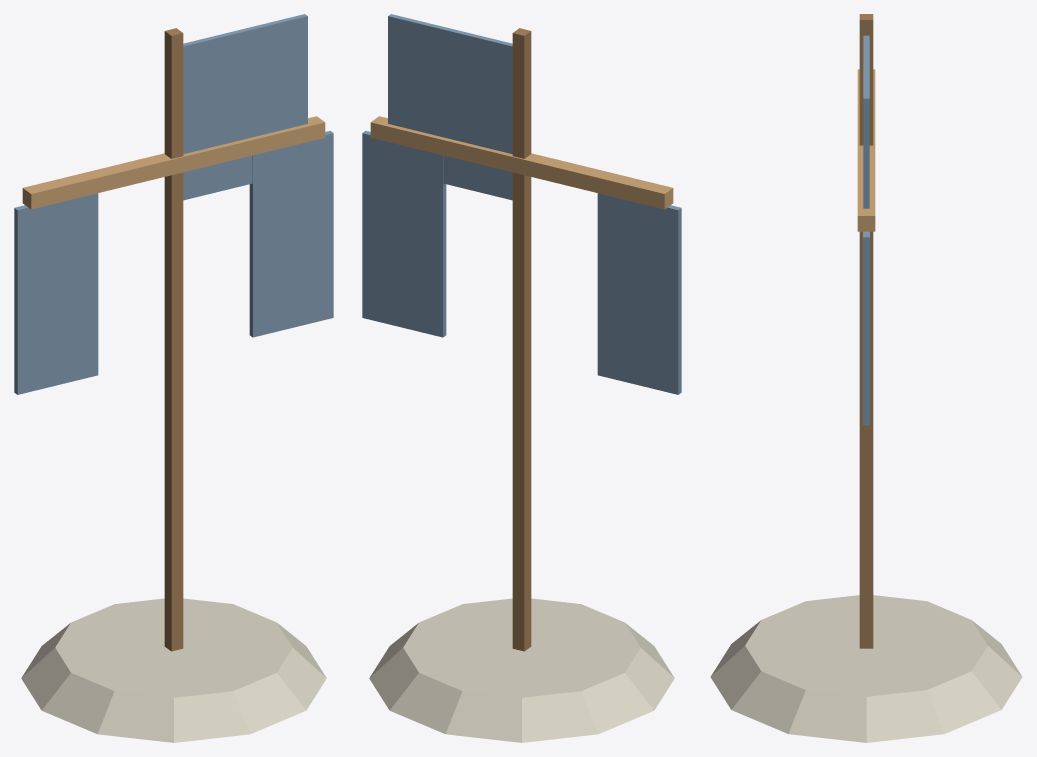
The model's file is rally-standard.glb.
3 views of the same model, side by side, from view 1: azimuth 30°, elevation 25°; view 2: azimuth 150°, elevation 25°; view 3: azimuth 270°, elevation 25° (orthographic). The views are drawn at different scales.
Parts seen in each view (by area): view 1: rally-standard; view 2: rally-standard; view 3: rally-standard.
Part boxes in pixels (left/top/right/bottom): rally-standard: left=14, top=14, right=333, bottom=742; rally-standard: left=362, top=14, right=681, bottom=742; rally-standard: left=710, top=14, right=1022, bottom=742.
Size of the model in its own units: 2.15 by 4.2 by 1.8.
